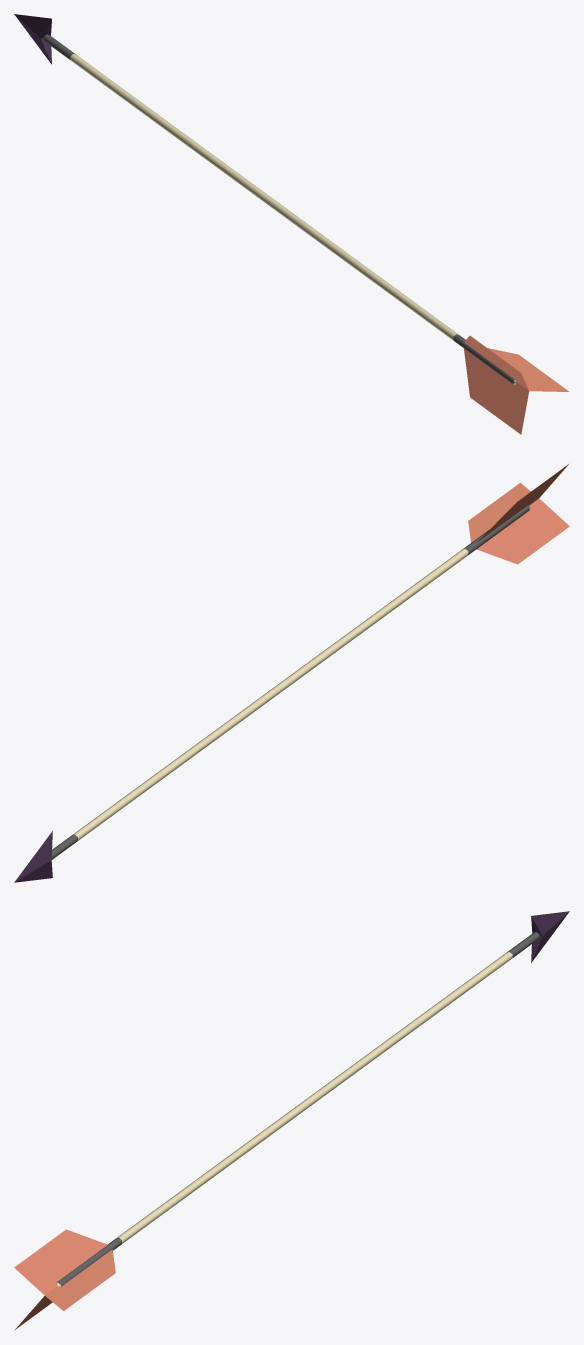
File: BowArrow.fbx
The picture shows the model from 3 angles, top to bottom: view 1: azimuth 30°, elevation 25°; view 2: azimuth 150°, elevation 25°; view 3: azimuth 330°, elevation 25°; orthographic projection.
Visible parts, largest first — view 1: Cylinder; view 2: Cylinder; view 3: Cylinder.
Part boxes in pixels (x1=…): Cylinder: x1=14, y1=14, x2=569, y2=434; Cylinder: x1=14, y1=464, x2=569, y2=882; Cylinder: x1=14, y1=911, x2=569, y2=1329.
Size of the model in its own units: 4.04 by 75.62 by 4.91.
